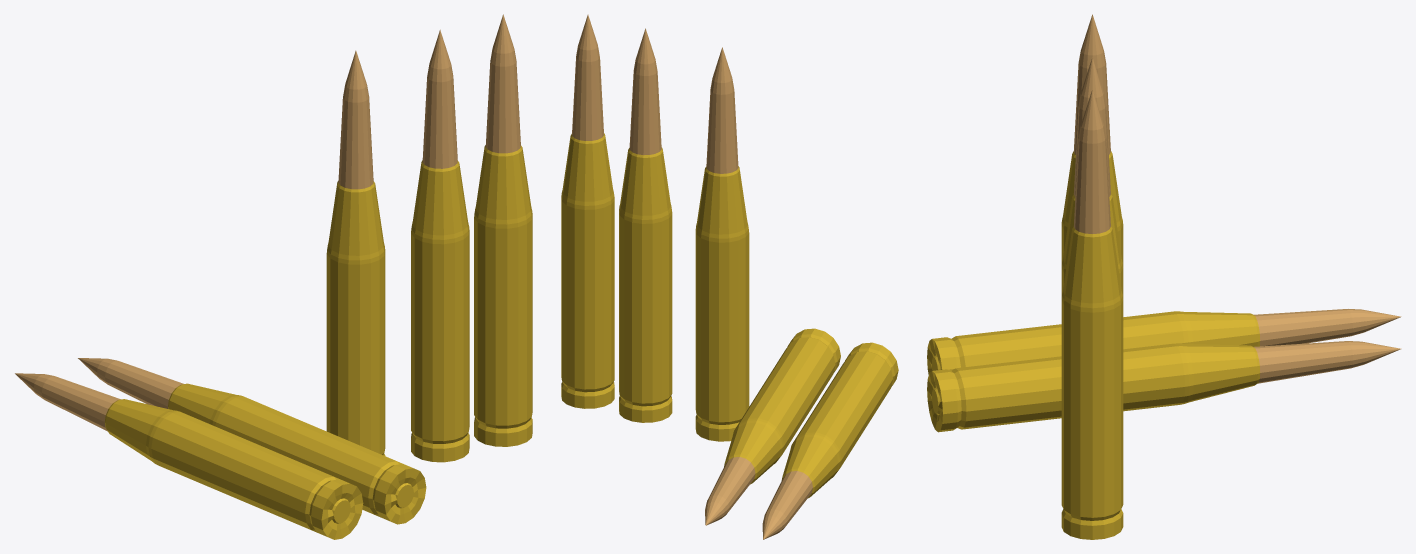
File: sniper ammo.fbx
3 renders of one model, left to right at view 1: azimuth 30°, elevation 25°; view 2: azimuth 150°, elevation 25°; view 3: azimuth 270°, elevation 25°, orthographic. The views are drawn at different scales.
Parts seen in each view (by area): view 1: Ammo 7.62; view 2: Ammo 7.62; view 3: Ammo 7.62.
Boxes of the visible parts, box(x1,y1,x2,y2) form: Ammo 7.62: box(15, 14, 532, 539); Ammo 7.62: box(561, 14, 898, 539); Ammo 7.62: box(927, 14, 1401, 539).
Size of the model in its own units: 27.87 by 30.55 by 30.01.
